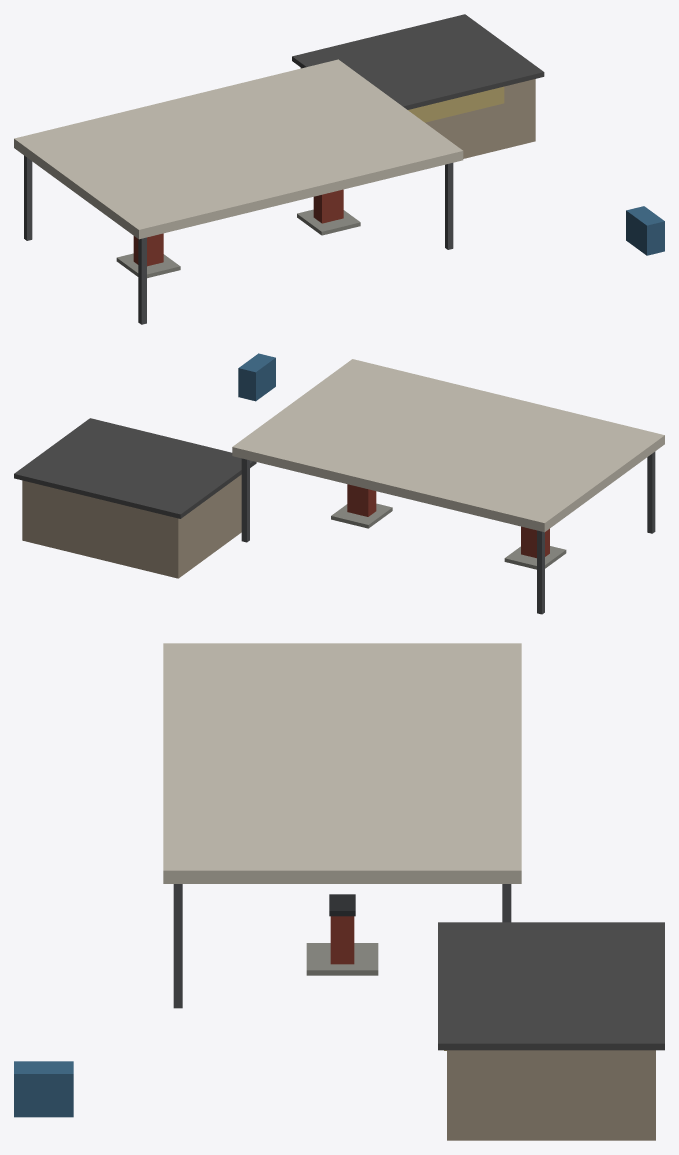
Rendered from gas_station.glb.
The picture shows the model from 3 angles, top to bottom: view 1: azimuth 30°, elevation 25°; view 2: azimuth 150°, elevation 25°; view 3: azimuth 270°, elevation 25°; orthographic projection. The views are drawn at different scales.
Visible parts, largest first — view 1: canopy, store, pump_2, box, pump_1; view 2: canopy, store, pump_2, box, pump_1; view 3: canopy, store, pump_2, box.
Boxes of the visible parts, left/top/right/bottom form: canopy: left=14, top=59, right=463, bottom=324; store: left=292, top=14, right=544, bottom=158; pump_2: left=297, top=189, right=360, bottom=235; box: left=626, top=206, right=664, bottom=255; pump_1: left=116, top=233, right=180, bottom=278; canopy: left=232, top=359, right=664, bottom=614; store: left=14, top=418, right=256, bottom=578; pump_2: left=331, top=484, right=392, bottom=528; box: left=238, top=353, right=275, bottom=401; pump_1: left=504, top=526, right=566, bottom=569; canopy: left=163, top=643, right=521, bottom=1008; store: left=438, top=922, right=664, bottom=1140; pump_2: left=306, top=894, right=378, bottom=975; box: left=14, top=1061, right=73, bottom=1117.
Bounding box in the file's own units: 27.8 × 5.55 × 21.8.
